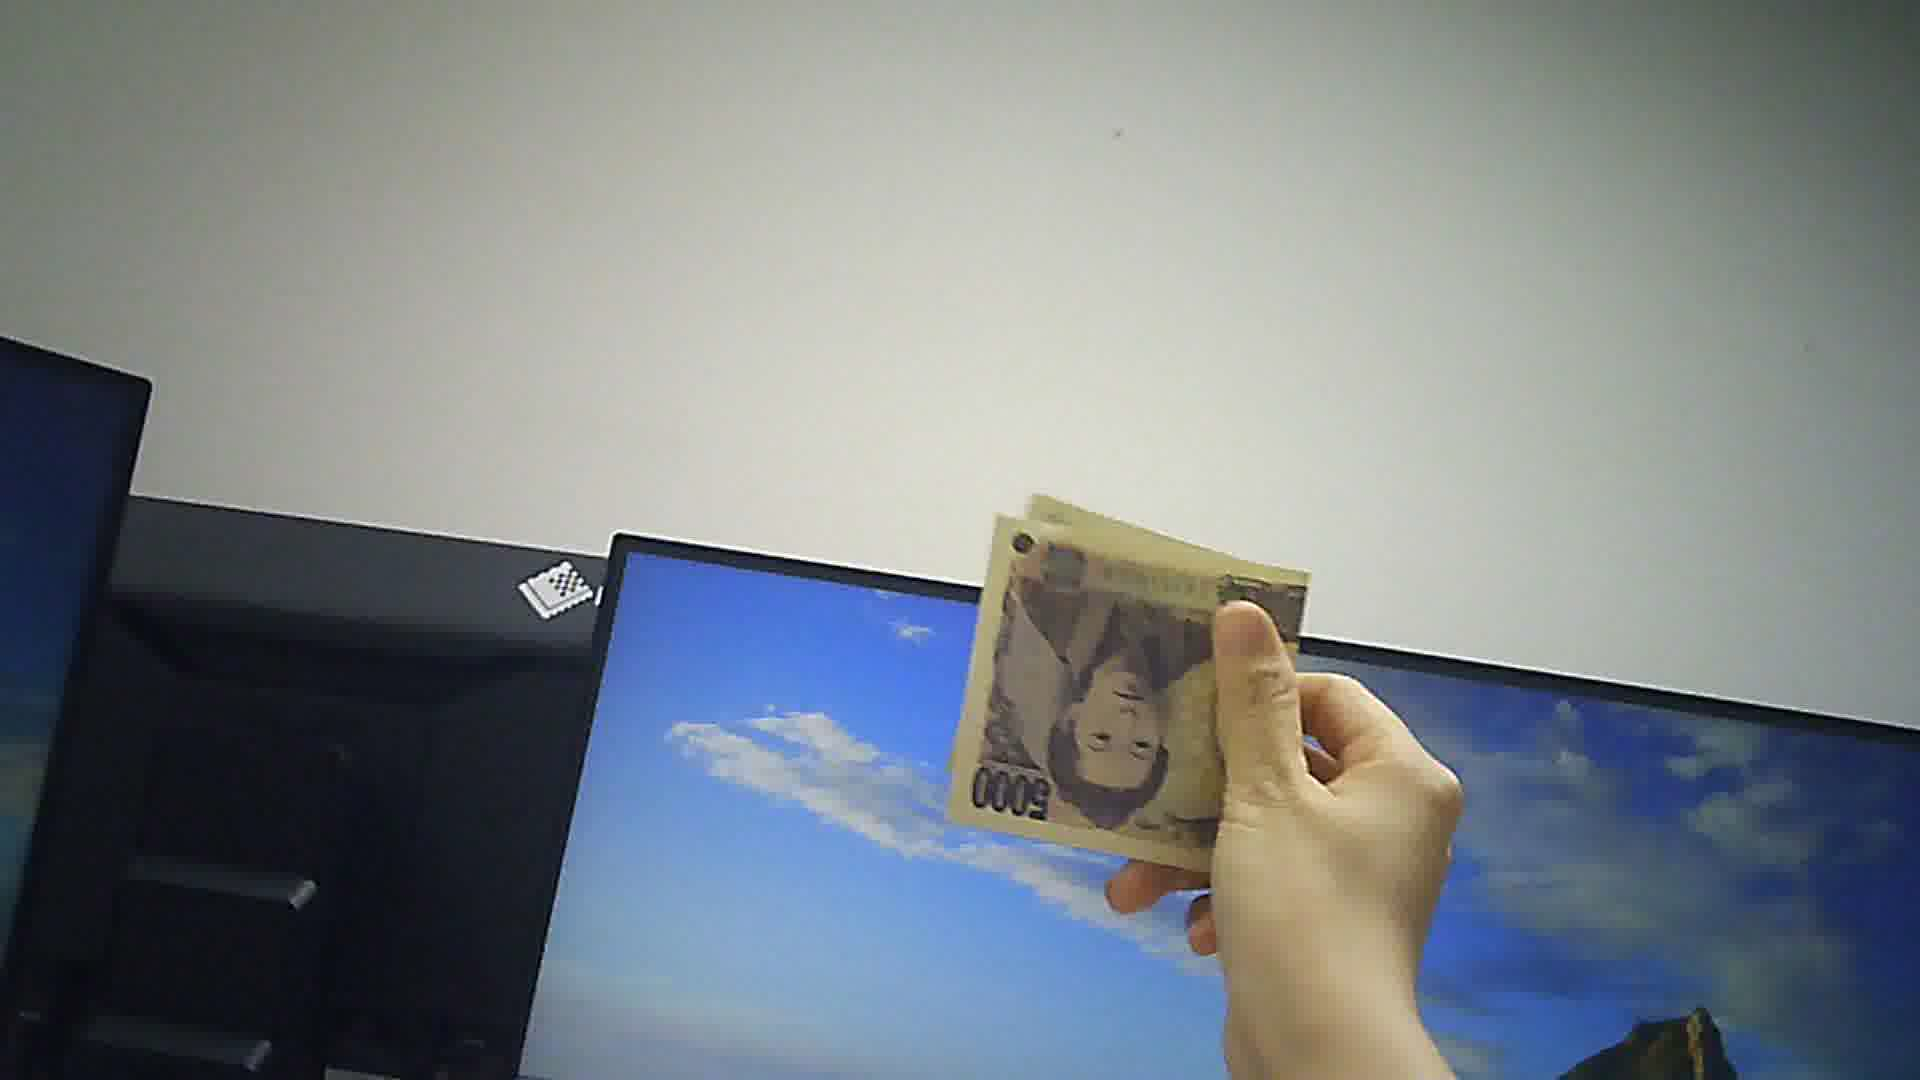5,000 Yen: (948, 500, 1300, 864)
